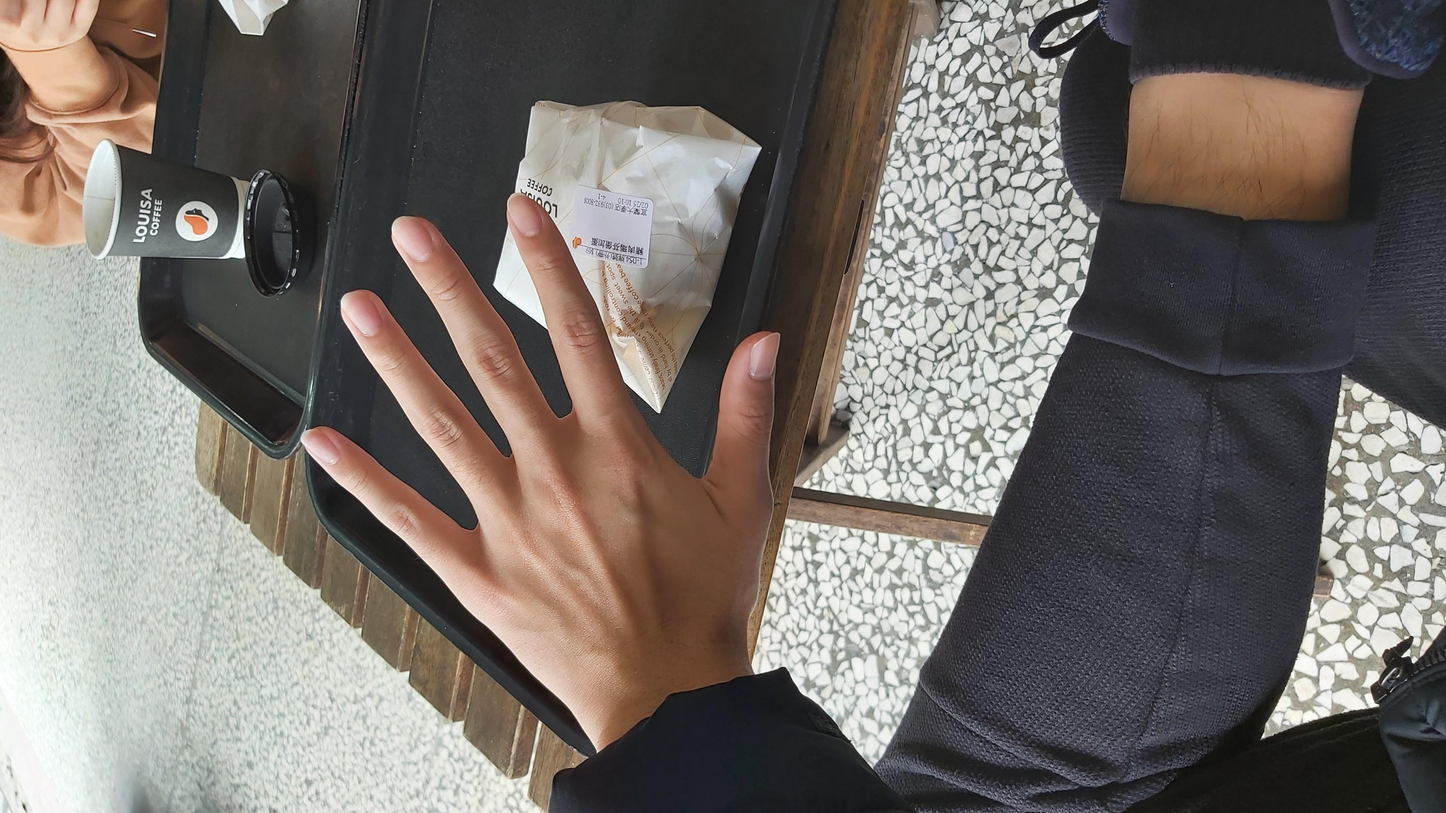palm: (218, 164, 1102, 453)
